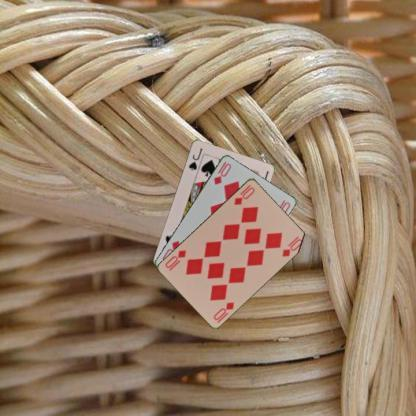10d: (231, 182, 256, 206), (210, 161, 233, 186), (211, 300, 236, 322)
Js: (186, 146, 204, 172)
